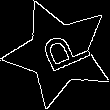P_SW: (28, 26, 90, 80)
